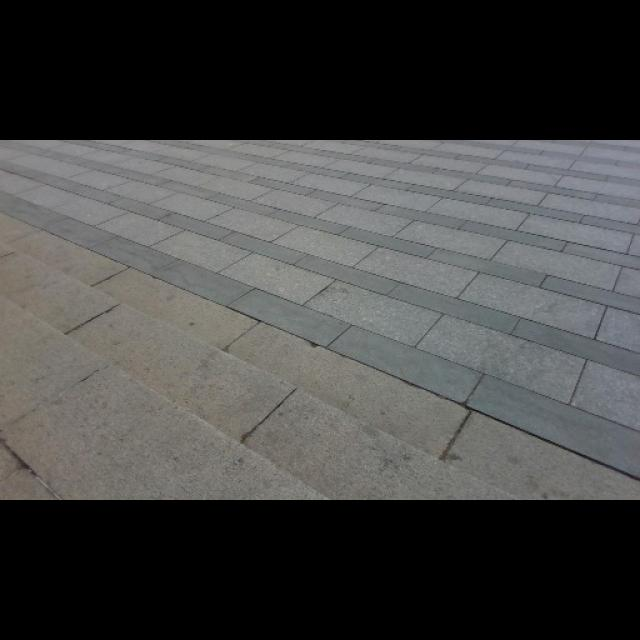stair: (8, 236, 434, 487)
